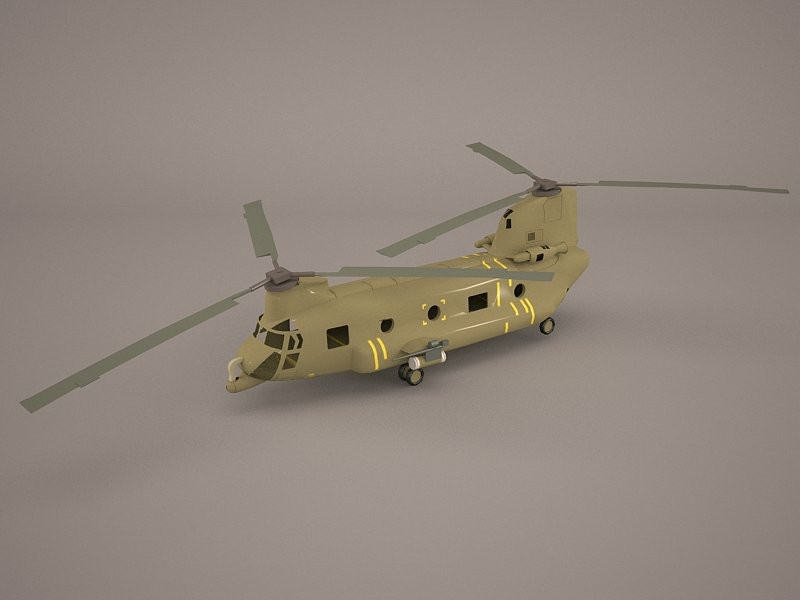chinook: (116, 142, 763, 401)
